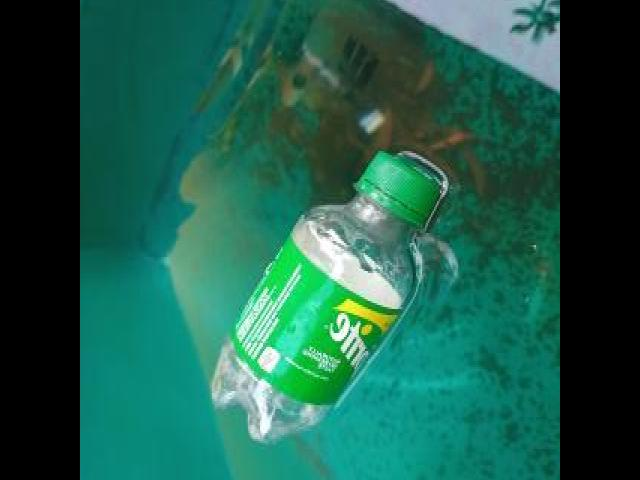Bottle: (202, 123, 451, 450)
